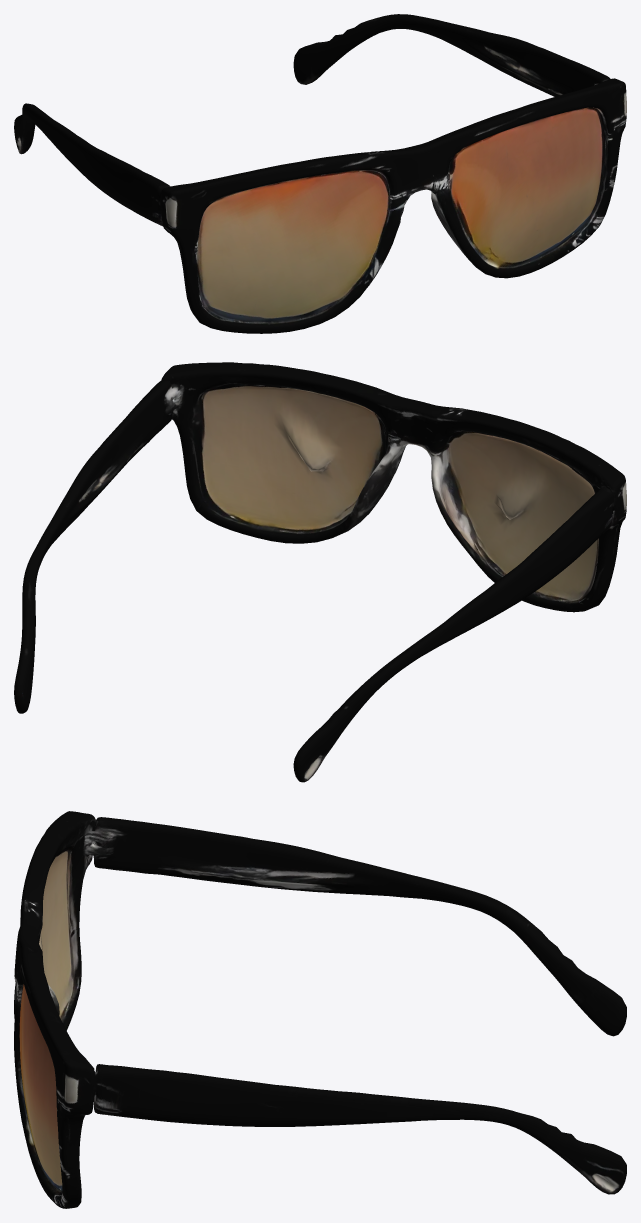
The model's file is newframe-1.glb.
3 views of the same model, one above another, from view 1: azimuth 30°, elevation 25°; view 2: azimuth 150°, elevation 25°; view 3: azimuth 270°, elevation 25° (orthographic). The views are drawn at different scales.
Parts seen in each view (by area): view 1: model; view 2: model; view 3: model.
Boxes of the visible parts, x1,y1,x2,y2 form: model: (14, 14, 626, 333); model: (14, 362, 626, 782); model: (14, 811, 626, 1208).
Bounding box in the file's own units: 0.1419 × 0.05 × 0.1428.
Materials: 1 (1 with a texture image).
